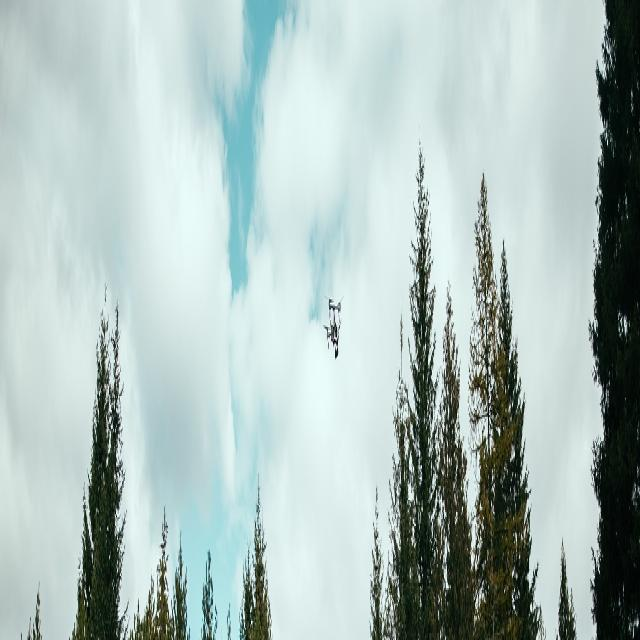drone: (322, 289, 344, 358)
